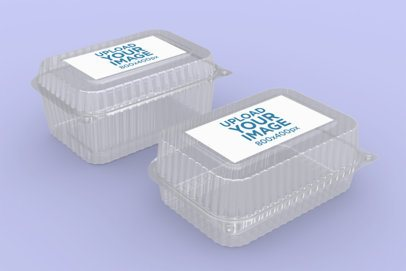PlasticBox: (145, 85, 375, 251)
